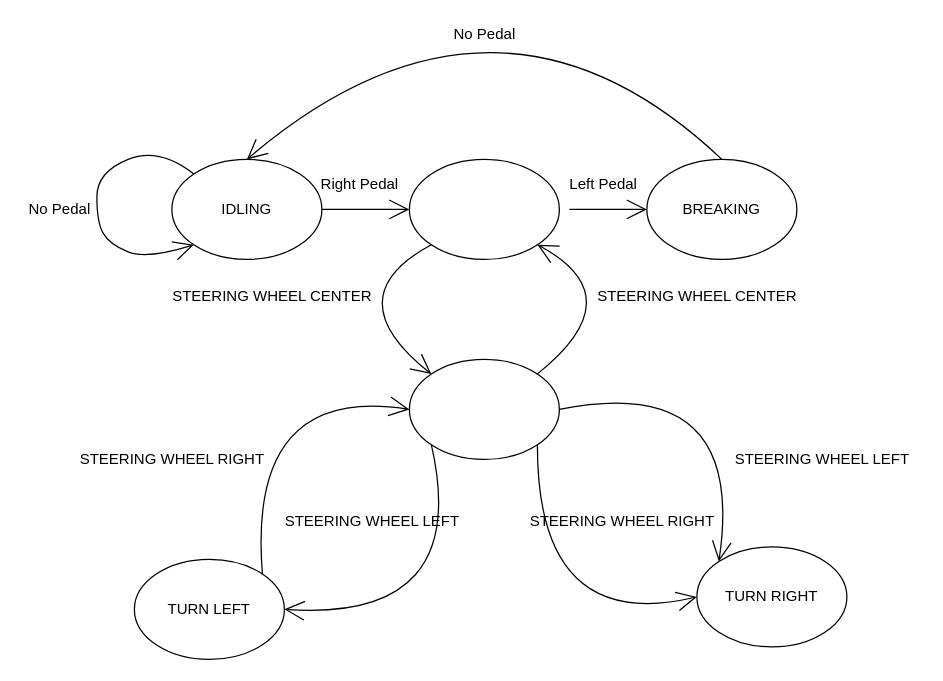
This 943x681 diagram has some shape labels left out. The shapes that lost their labels are listed below. From the top down, each one's centre as x and y in pixels, then its label:
At (483,208): "ACCELERATING".
At (483,408): "DRIVE STRAIGHT".
